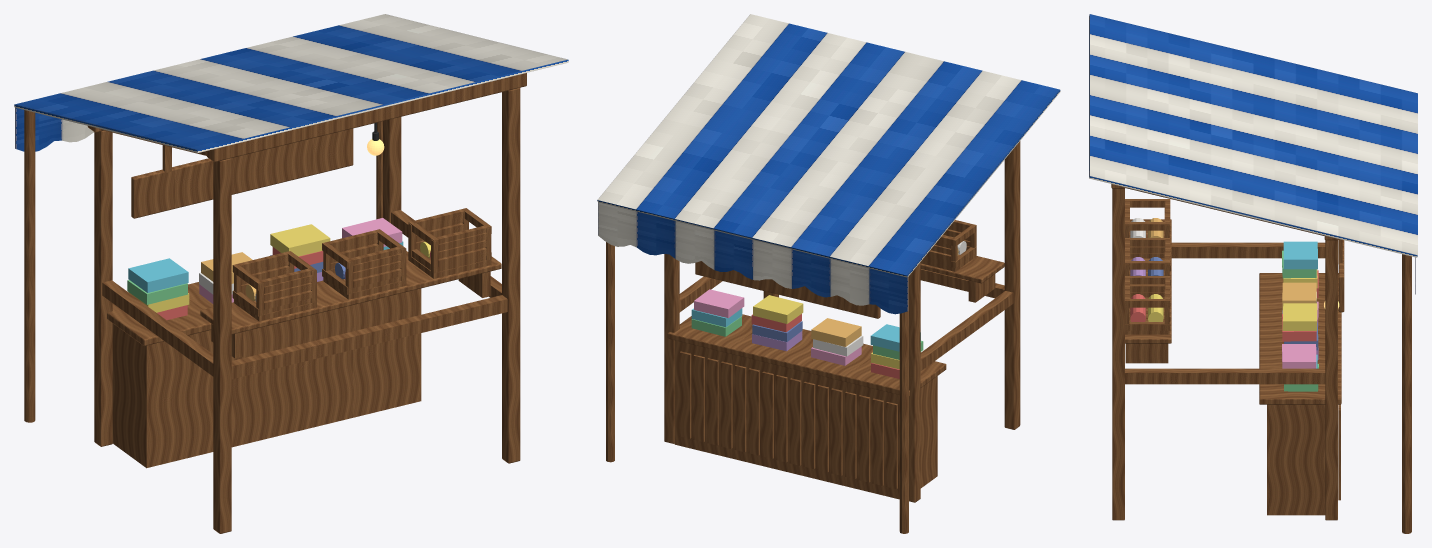
File: kios-biru-blender-v1.glb
The picture shows the model from 3 angles, left to right: view 1: azimuth 30°, elevation 25°; view 2: azimuth 150°, elevation 25°; view 3: azimuth 270°, elevation 25°; orthographic projection. The views are drawn at different scales.
Parts seen in each view (by area): view 1: wood, canvas, wood_dark, goods; view 2: canvas, wood, goods, wood_dark; view 3: canvas, wood, goods, wood_dark.
Boxes of the visible parts, bbox=[...] form: wood: bbox=[24, 73, 526, 533]; canvas: bbox=[14, 14, 568, 152]; wood_dark: bbox=[131, 128, 353, 218]; goods: bbox=[127, 218, 430, 320]; canvas: bbox=[597, 14, 1060, 314]; wood: bbox=[606, 141, 1020, 533]; goods: bbox=[691, 241, 966, 378]; wood_dark: bbox=[695, 261, 880, 318]; canvas: bbox=[1089, 14, 1417, 294]; wood: bbox=[1111, 184, 1411, 533]; goods: bbox=[1130, 218, 1318, 391]; wood_dark: bbox=[1338, 239, 1344, 312].
Bounding box in the file's own units: 2.7 × 2.8 × 2.31.
Materials: 14 (3 with a texture image).
